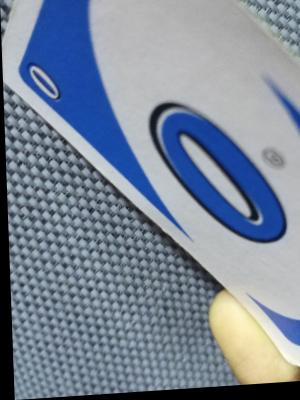num_0: (19, 54, 76, 113)
